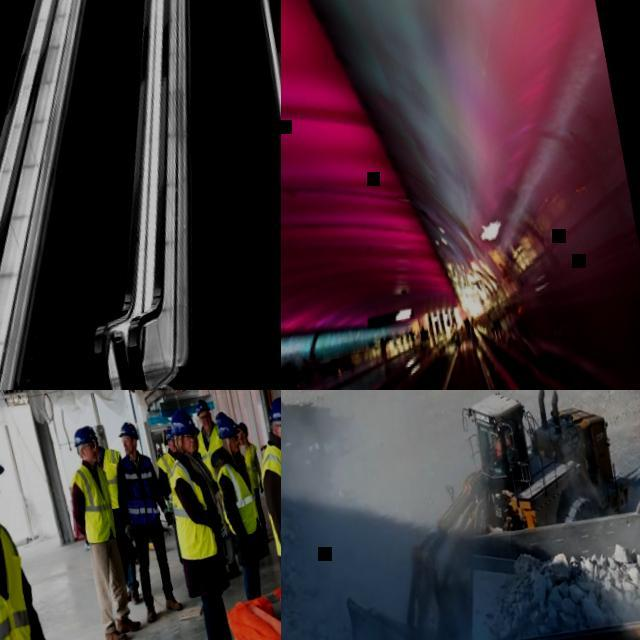helmet: (170, 406, 200, 437), (218, 414, 242, 440), (117, 419, 140, 442), (72, 426, 96, 446), (267, 394, 281, 427), (194, 398, 212, 416), (237, 422, 250, 438), (163, 428, 176, 442), (84, 424, 96, 437), (215, 411, 228, 422)
vest: (164, 454, 222, 564), (0, 518, 52, 640), (68, 459, 120, 546), (214, 459, 266, 540), (120, 449, 165, 528), (253, 435, 281, 558), (98, 446, 132, 510), (195, 424, 230, 484), (154, 451, 187, 514), (242, 444, 266, 492)
